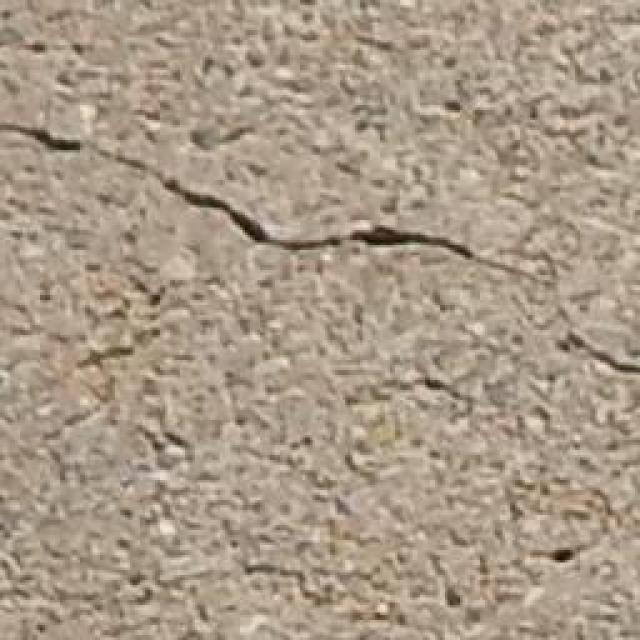concrete-crack: (0, 107, 640, 389)
